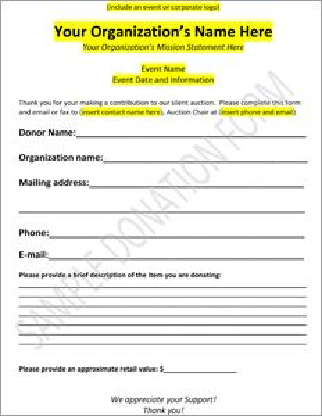textline: (17, 196, 309, 215), (47, 222, 308, 239), (73, 123, 308, 140), (47, 247, 306, 262), (86, 173, 308, 190), (17, 279, 309, 291), (11, 337, 313, 348), (100, 150, 309, 165), (14, 309, 308, 319), (12, 329, 312, 338), (14, 300, 308, 309), (15, 291, 308, 300), (15, 319, 311, 327), (162, 359, 240, 374)
